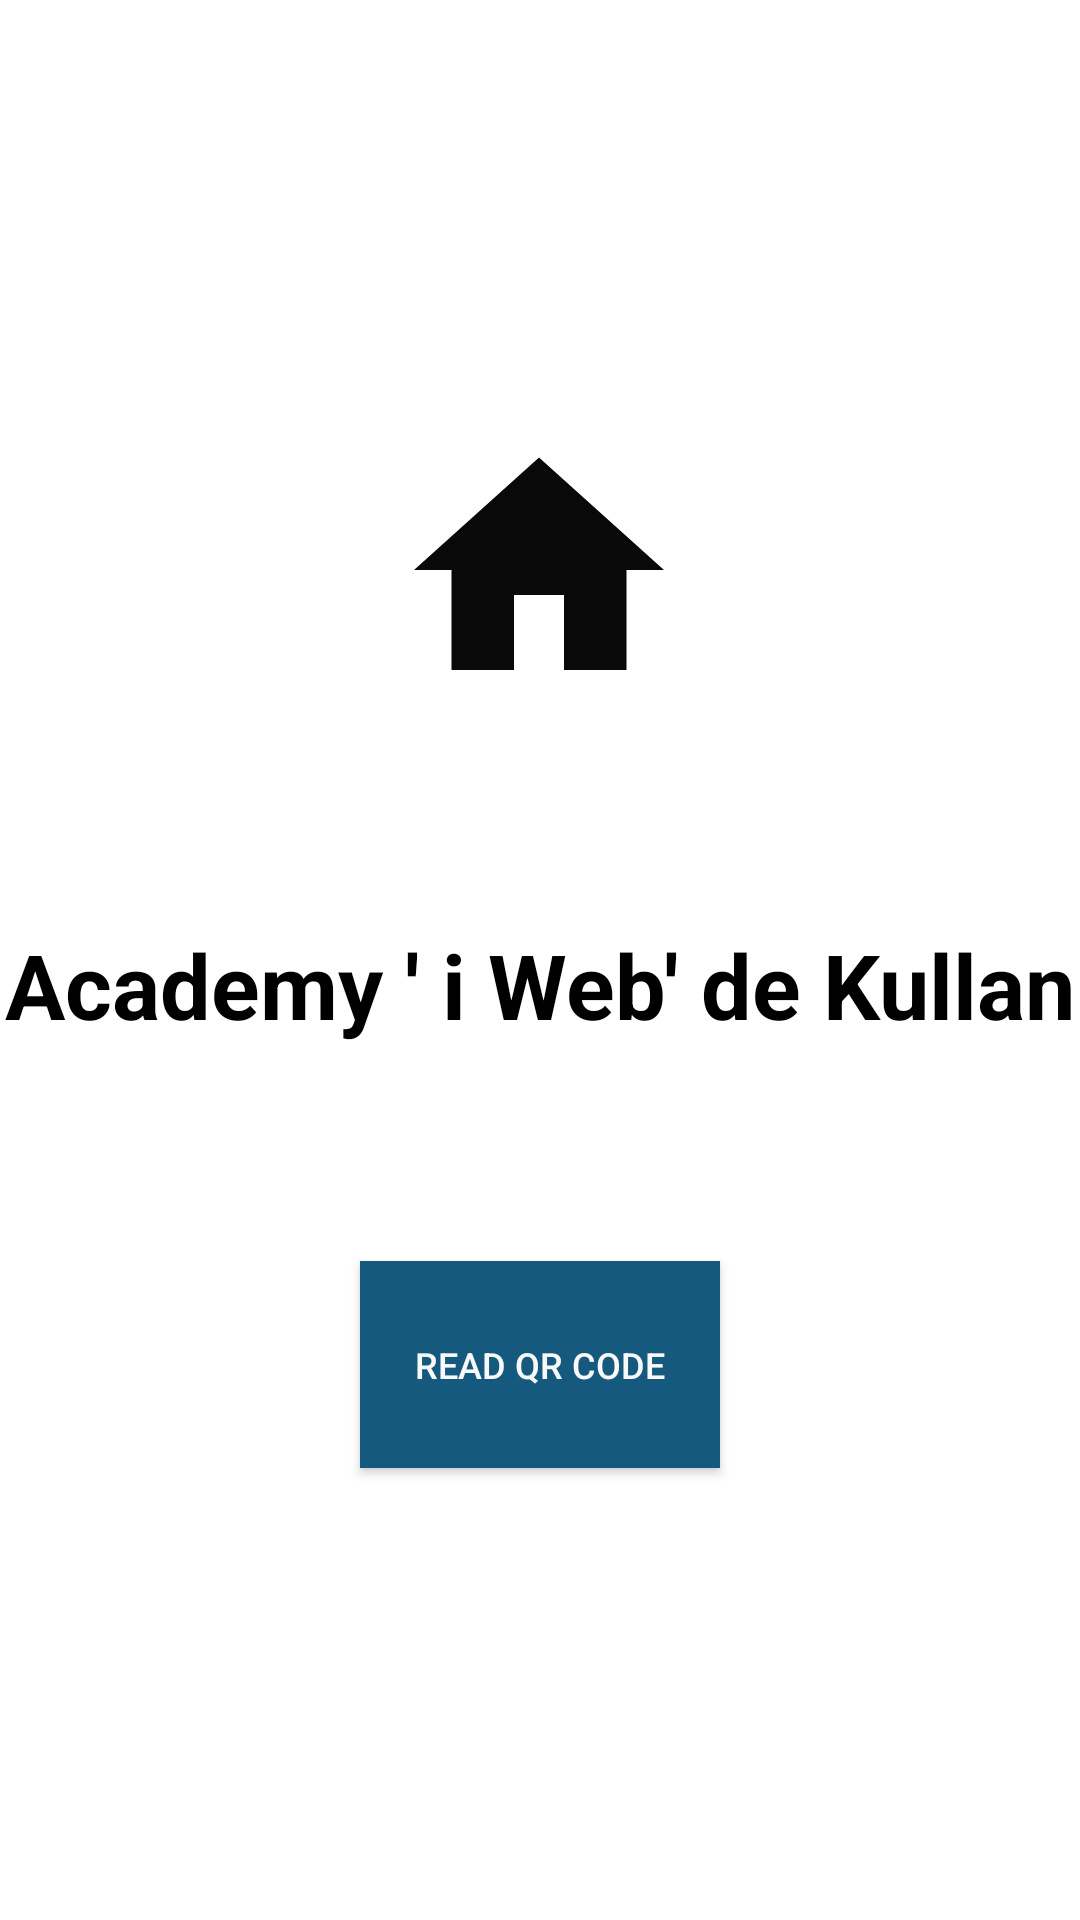

Named icons in this screenshot (1080×1920) and their bounding boxes, (x1, y1, x2, y2):
anasayfa siyah: (414, 457, 664, 670)
